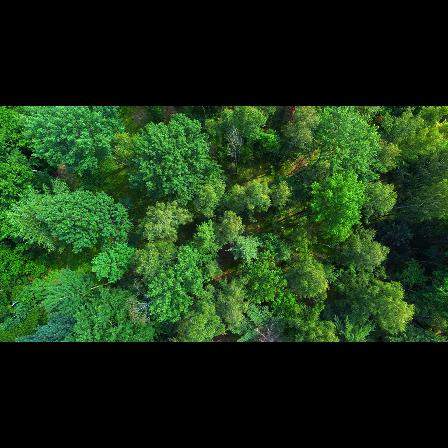Dead: (226, 127, 243, 174)
